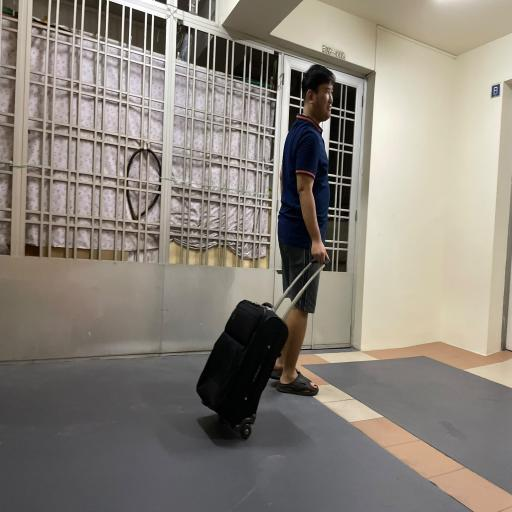person_right: (192, 36, 338, 442)
